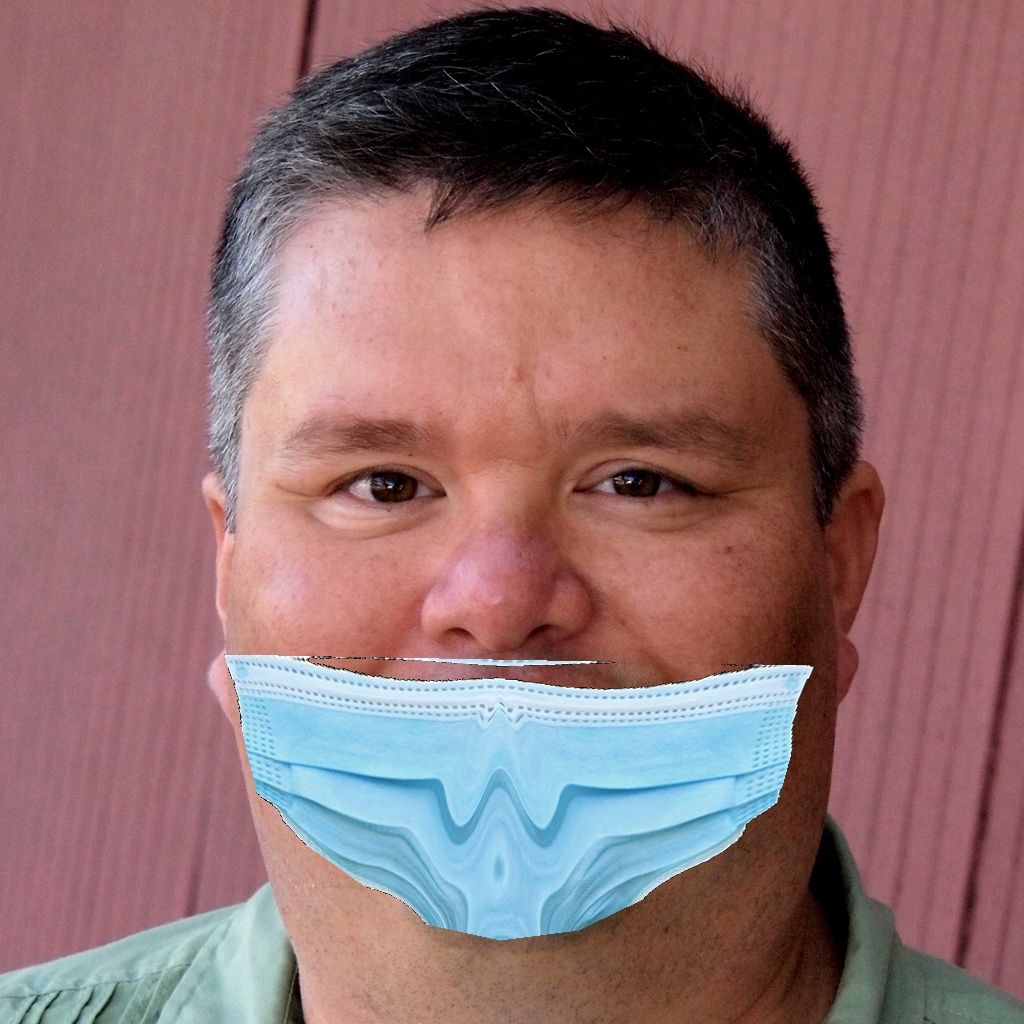mascarilla_mal_puesta: (192, 365, 854, 968)
